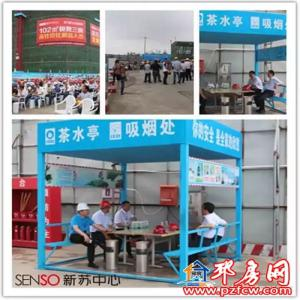none: (201, 202, 217, 217), (121, 201, 133, 213), (81, 86, 90, 95), (267, 70, 275, 79), (249, 72, 257, 79)
red: (100, 201, 113, 214)
white: (77, 203, 91, 217)
